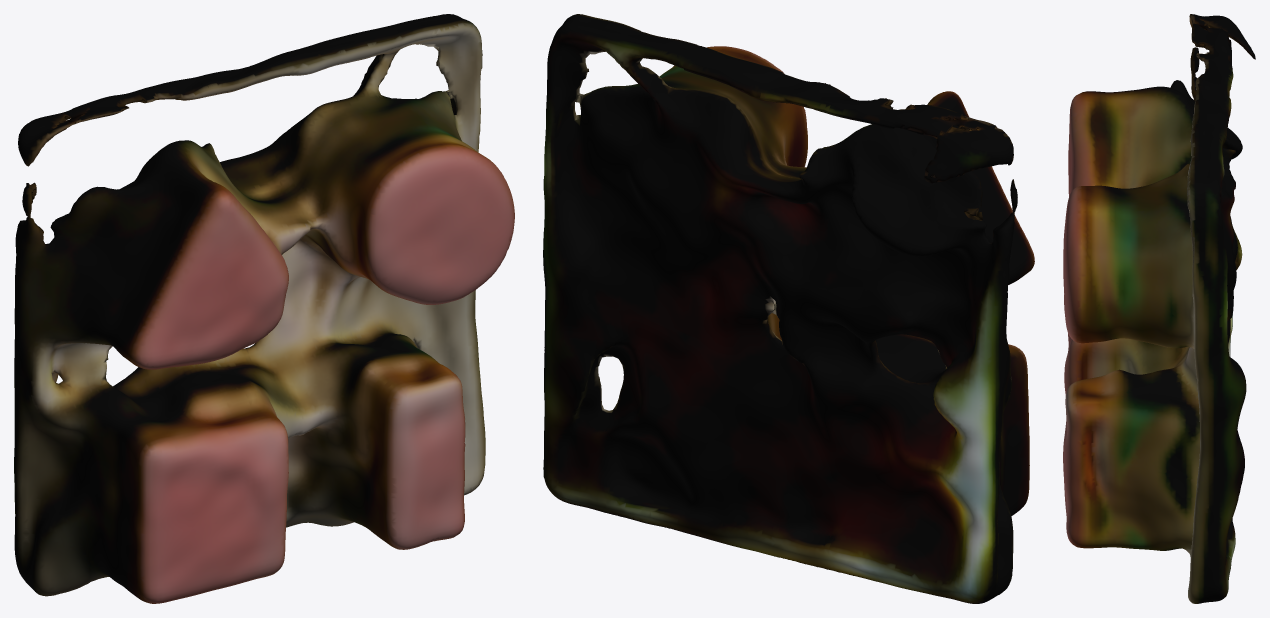
Rendered from sorting_board.glb.
3 views of the same model, side by side, from view 1: azimuth 30°, elevation 25°; view 2: azimuth 150°, elevation 25°; view 3: azimuth 270°, elevation 25° (orthographic). The views are drawn at different scales.
Size of the model in its own units: 0.9986 by 0.9914 by 0.4086.
